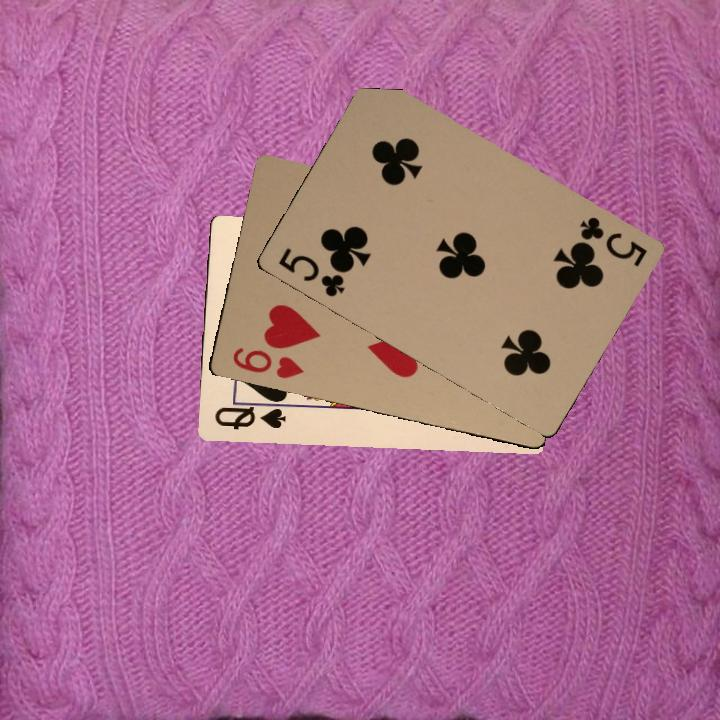5c: (274, 243, 349, 300), (575, 212, 650, 269)
6h: (228, 343, 303, 382)
Qs: (211, 398, 292, 432)
